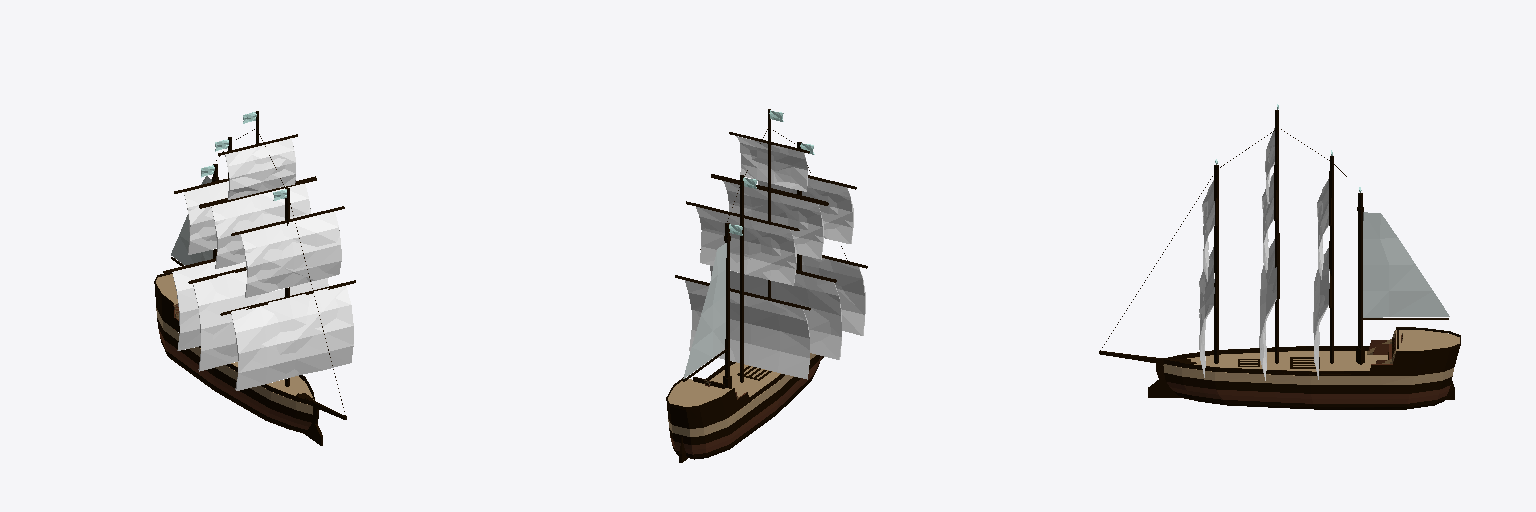
File: Boat.obj
The picture shows the model from 3 angles: view 1: azimuth 30°, elevation 25°; view 2: azimuth 150°, elevation 25°; view 3: azimuth 270°, elevation 25°; orthographic projection.
Parts seen in each view (by area): view 1: Cube.6, Cube.5, Cube.4, boat, Cube.2, Cube.3, Cube, Cube.1, Cube.7; view 2: Cube, Cube.1, boat, Cube.4, Cube.2, Cube.7, Cube.3, Cube.6, Cube.5, Loft.1, Cap_2_3, Cap_2_4 (+2 smaller); view 3: boat, Cube.7, Cap_2_4, Loft.1, Cube.4, Sweep.2, Cube, Cap_2_3, Cube.6, Cylinder.2, Cylinder_1, Cylinder.2_1 (+5 smaller).
Boxes of the visible parts, <box> form: Cube.6: <box>231,286,353,390</box>; Cube.5: <box>241,211,341,297</box>; Cube.4: <box>193,270,328,371</box>; boat: <box>156,308,312,433</box>; Cube.2: <box>211,183,310,268</box>; Cube.3: <box>225,138,295,199</box>; Cube: <box>172,261,245,350</box>; Cube.1: <box>184,181,228,254</box>; Cube.7: <box>171,176,212,265</box>; Cube: <box>685,280,809,379</box>; Cube.1: <box>696,207,796,285</box>; boat: <box>668,353,821,459</box>; Cube.4: <box>710,266,841,359</box>; Cube.2: <box>723,181,823,259</box>; Cube.7: <box>683,243,726,378</box>; Cube.3: <box>736,136,807,191</box>; Cube.6: <box>796,255,865,335</box>; Cube.5: <box>758,178,853,243</box>; Loft.1: <box>667,391,749,428</box>; Cap_2_3: <box>668,379,731,406</box>; Cap_2_4: <box>710,362,780,406</box>; boat: <box>1163,364,1453,409</box>; Cube.7: <box>1363,212,1449,317</box>; Cap_2_4: <box>1176,351,1387,375</box>; Loft.1: <box>1368,334,1459,375</box>; Cube.4: <box>1259,239,1276,380</box>; Sweep.2: <box>1163,346,1369,374</box>; Cube: <box>1313,248,1329,379</box>; Cap_2_3: <box>1396,330,1459,350</box>; Cube.6: <box>1199,247,1214,377</box>; Cylinder.2: <box>1214,165,1218,363</box>; Cylinder_1: <box>1358,193,1362,348</box>; Cylinder.2_1: <box>1275,110,1278,363</box>.
Size of the model in its own units: 2019 by 4146 by 4668.